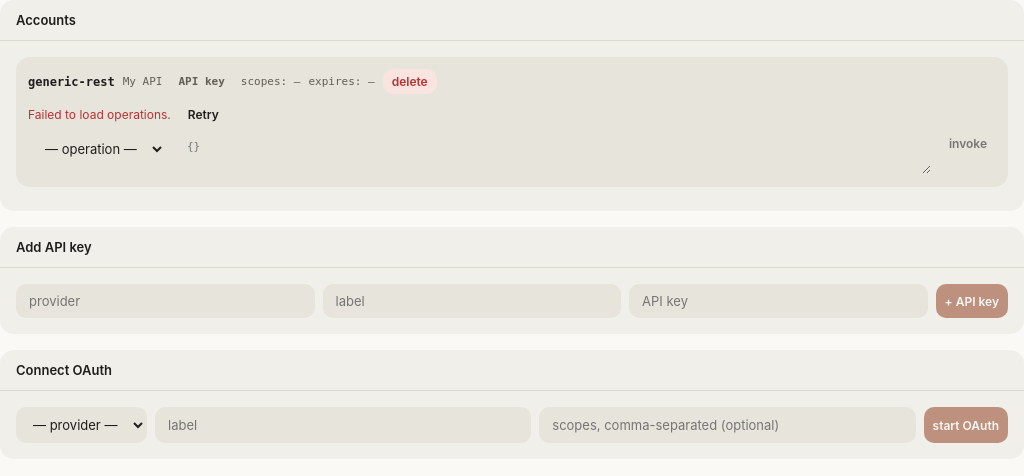
Scenario: ConnectorsTab › a FAILED ops-list load shows a retry affordance distinct from 'no ops' (P-15)
Expected: the element with test id "ops-load-failed-a1" is shown, x1=28 y1=102 x2=228 y2=127
Expected: the element with test id "ops-load-failed-a1" shows "Failed to load operations.", x1=28 y1=107 x2=171 y2=122
Click the button with test id "ops-retry-a1": (203, 114) x1=179 y1=102 x2=228 y2=127
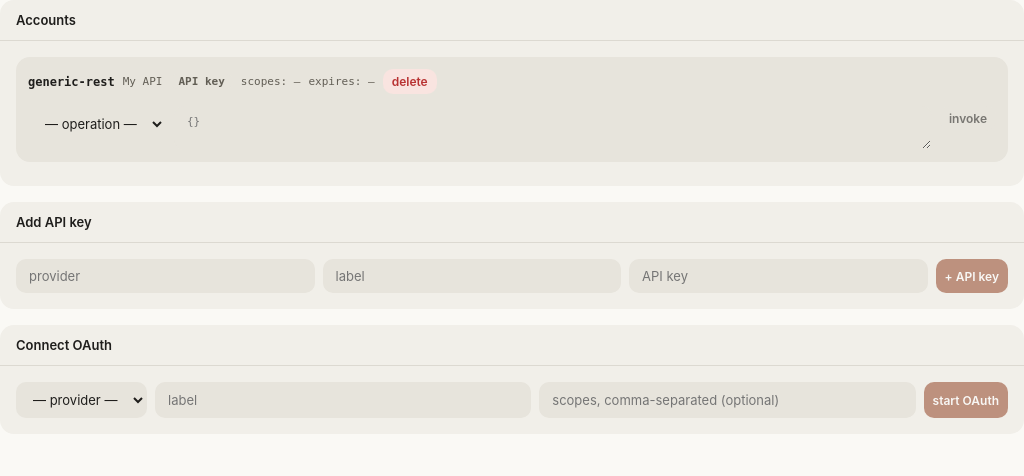
Expected: the element with test id "ops-load-failed-a1" is gone
